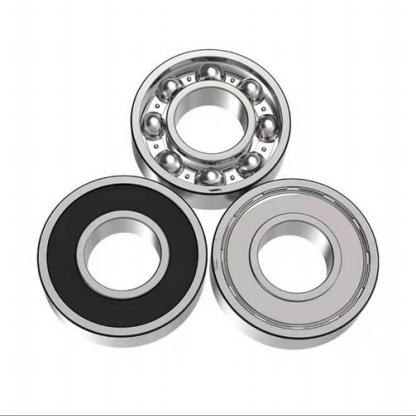FOD: (33, 170, 209, 343), (211, 172, 384, 341), (126, 42, 296, 212)
